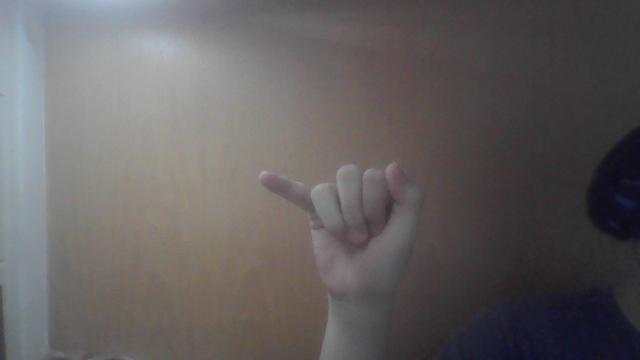Right: (258, 164, 428, 296)
